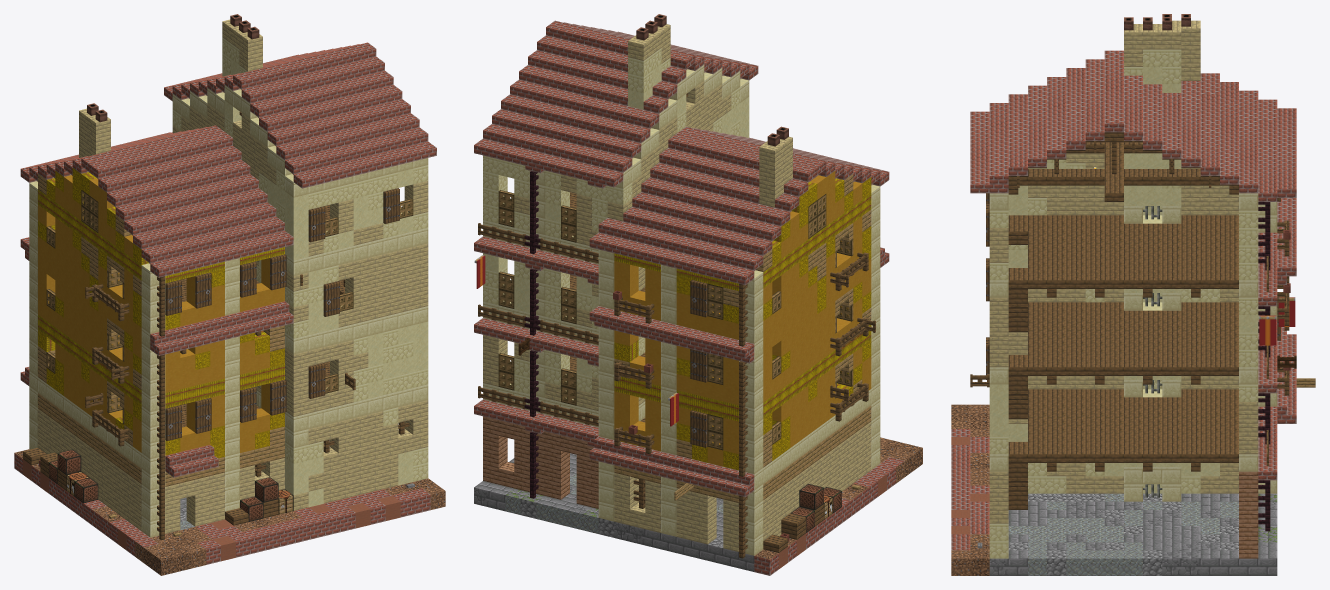
File: nha-03.fbx
The picture shows the model from 3 angles, left to right: view 1: azimuth 30°, elevation 25°; view 2: azimuth 150°, elevation 25°; view 3: azimuth 270°, elevation 25°; orthographic projection. The views are drawn at different scales.
Visible parts, largest first — view 1: nha-03; view 2: nha-03; view 3: nha-03.
Part boxes in pixels (x1,y1,x2,y2): nha-03: (14, 14, 445, 575); nha-03: (474, 14, 922, 575); nha-03: (951, 14, 1315, 575).
Size of the model in its own units: 1913 by 2850 by 1900.
Materials: 1 (1 with a texture image).
